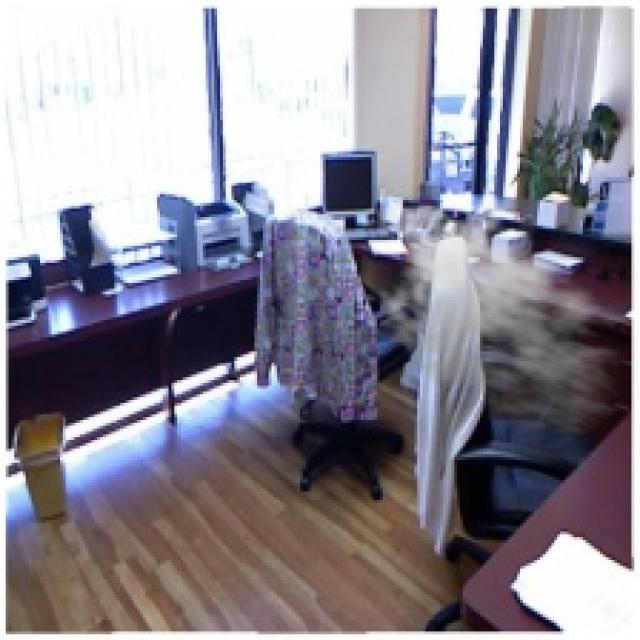smoke: (374, 197, 637, 440)
